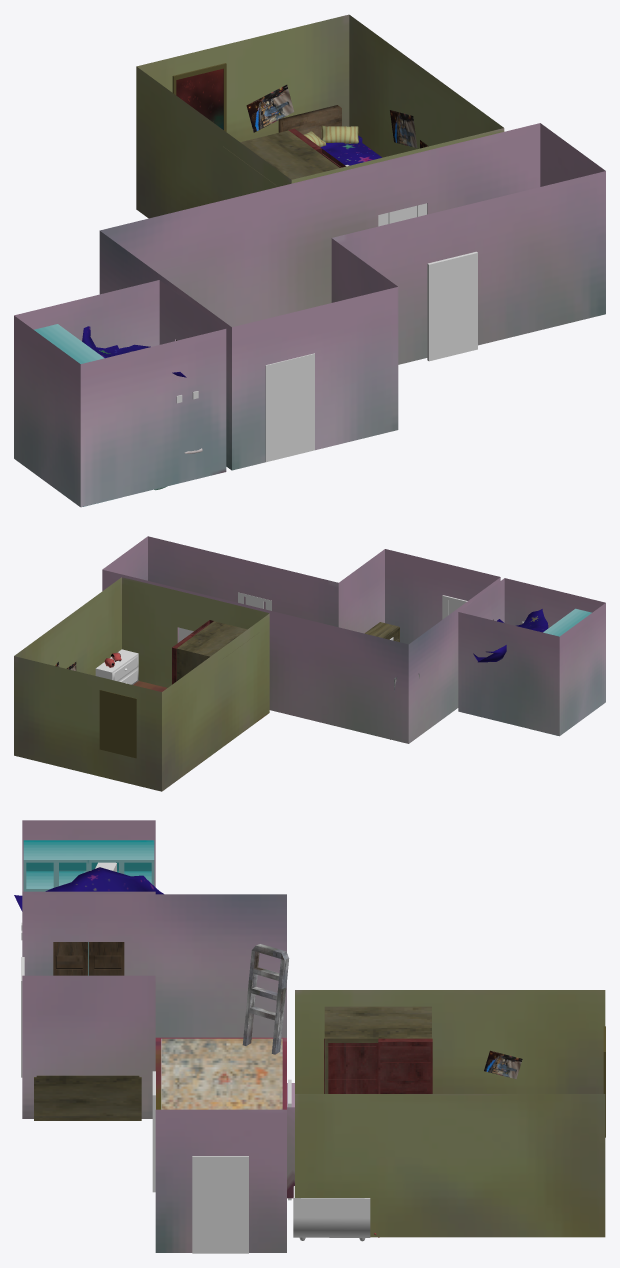
The model's file is Locaton1_expo.fbx.
3 renders of one model, top to bottom at view 1: azimuth 30°, elevation 25°; view 2: azimuth 150°, elevation 25°; view 3: azimuth 270°, elevation 25°, orthographic. The views are drawn at different scales.
Visible parts, largest first — view 1: Plane.001, Cube.081, Cube.076, Cube.013, Cube.064, Картинк.004, bed frame, Cube.011, blanket, Картинк.002, pillow large bed.002; view 2: Plane.001, Cube.064, Cube.013, Cube.024, Pokrivalo_storage, Cube.011, Cube.068, Cube.081; view 3: Plane.001, Plane.006, Cube.077, Cube.011, Cube.068, Cube.013, Cube.024, Cube.014, Cube.003, Cube.012, Pokrivalo_storage, Cube.005 (+2 smaller).
Part boxes in pixels (left/top/right/bottom): Plane.001: left=14, top=14, right=605, bottom=507; Cube.081: left=427, top=251, right=477, bottom=361; Cube.076: left=265, top=353, right=314, bottom=462; Cube.013: left=223, top=130, right=339, bottom=186; Cube.064: left=172, top=63, right=226, bottom=131; Картинк.004: left=246, top=84, right=294, bottom=132; bed frame: left=278, top=105, right=341, bottom=138; Cube.011: left=34, top=324, right=112, bottom=506; blanket: left=320, top=135, right=381, bottom=165; Картинк.002: left=390, top=110, right=417, bottom=147; pillow large bed.002: left=321, top=125, right=358, bottom=143; Plane.001: left=14, top=536, right=605, bottom=791; Cube.064: left=99, top=690, right=136, bottom=758; Cube.013: left=176, top=621, right=258, bottom=743; Cube.024: left=95, top=649, right=138, bottom=684; Pokrivalo_storage: left=473, top=609, right=548, bottom=662; Cube.011: left=543, top=608, right=591, bottom=636; Cube.068: left=364, top=622, right=399, bottom=641; Cube.081: left=238, top=592, right=271, bottom=610; Plane.001: left=22, top=820, right=605, bottom=1252; Plane.006: left=161, top=1038, right=282, bottom=1109; Cube.077: left=192, top=1156, right=248, bottom=1253; Cube.011: left=23, top=840, right=154, bottom=975; Cube.068: left=34, top=1075, right=141, bottom=1120; Cube.013: left=324, top=1006, right=431, bottom=1093; Cube.024: left=293, top=1186, right=370, bottom=1237; Cube.014: left=378, top=1038, right=432, bottom=1093; Cube.003: left=324, top=1038, right=378, bottom=1093; Cube.012: left=242, top=944, right=289, bottom=1054; Pokrivalo_storage: left=14, top=867, right=163, bottom=911; Cube.005: left=89, top=942, right=124, bottom=975.
Bounding box in the file's own units: 4122 × 987 × 3554.
